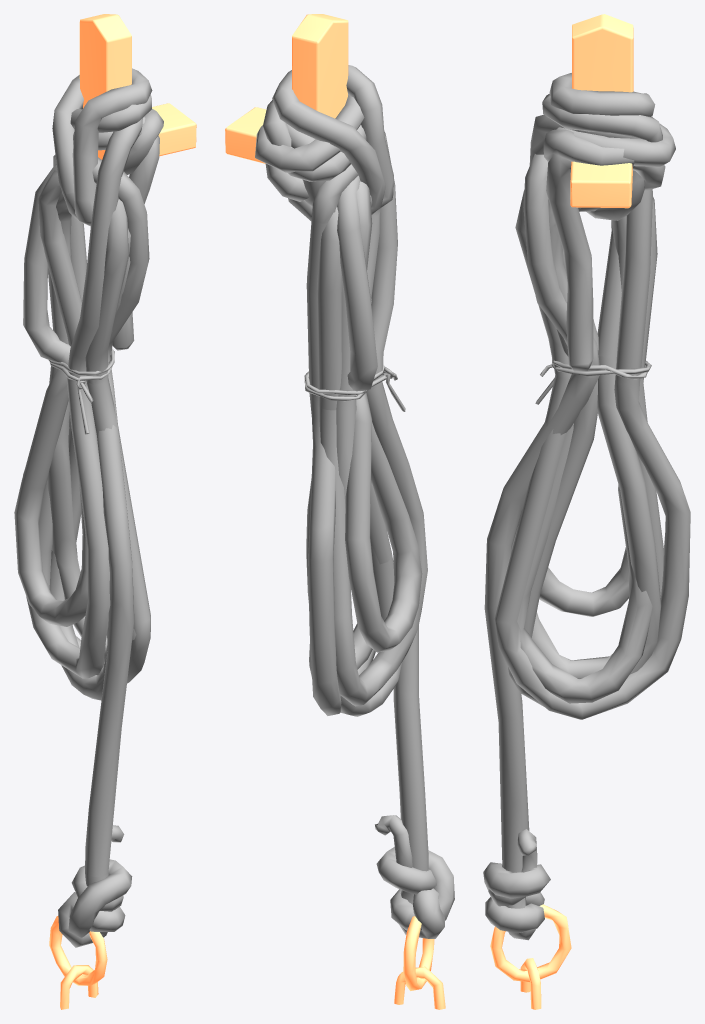
The model's file is SM_MastRope01.fbx.
3 views of the same model, side by side, from view 1: azimuth 30°, elevation 25°; view 2: azimuth 150°, elevation 25°; view 3: azimuth 270°, elevation 25° (orthographic). The views are drawn at different scales.
Parts seen in each view (by area): view 1: SM_MastRope01_LOD0; view 2: SM_MastRope01_LOD0; view 3: SM_MastRope01_LOD0.
Part boxes in pixels (x1,y1,x2,y2): SM_MastRope01_LOD0: (14, 14, 196, 1009); SM_MastRope01_LOD0: (225, 14, 454, 1009); SM_MastRope01_LOD0: (483, 14, 690, 1009).
Bounding box in the file's own units: 33.78 × 35.52 × 191.
